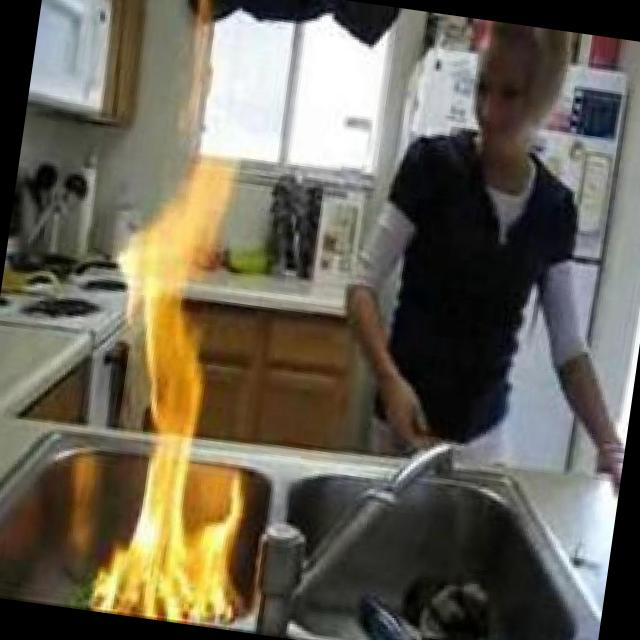Fire: (68, 130, 301, 630)
